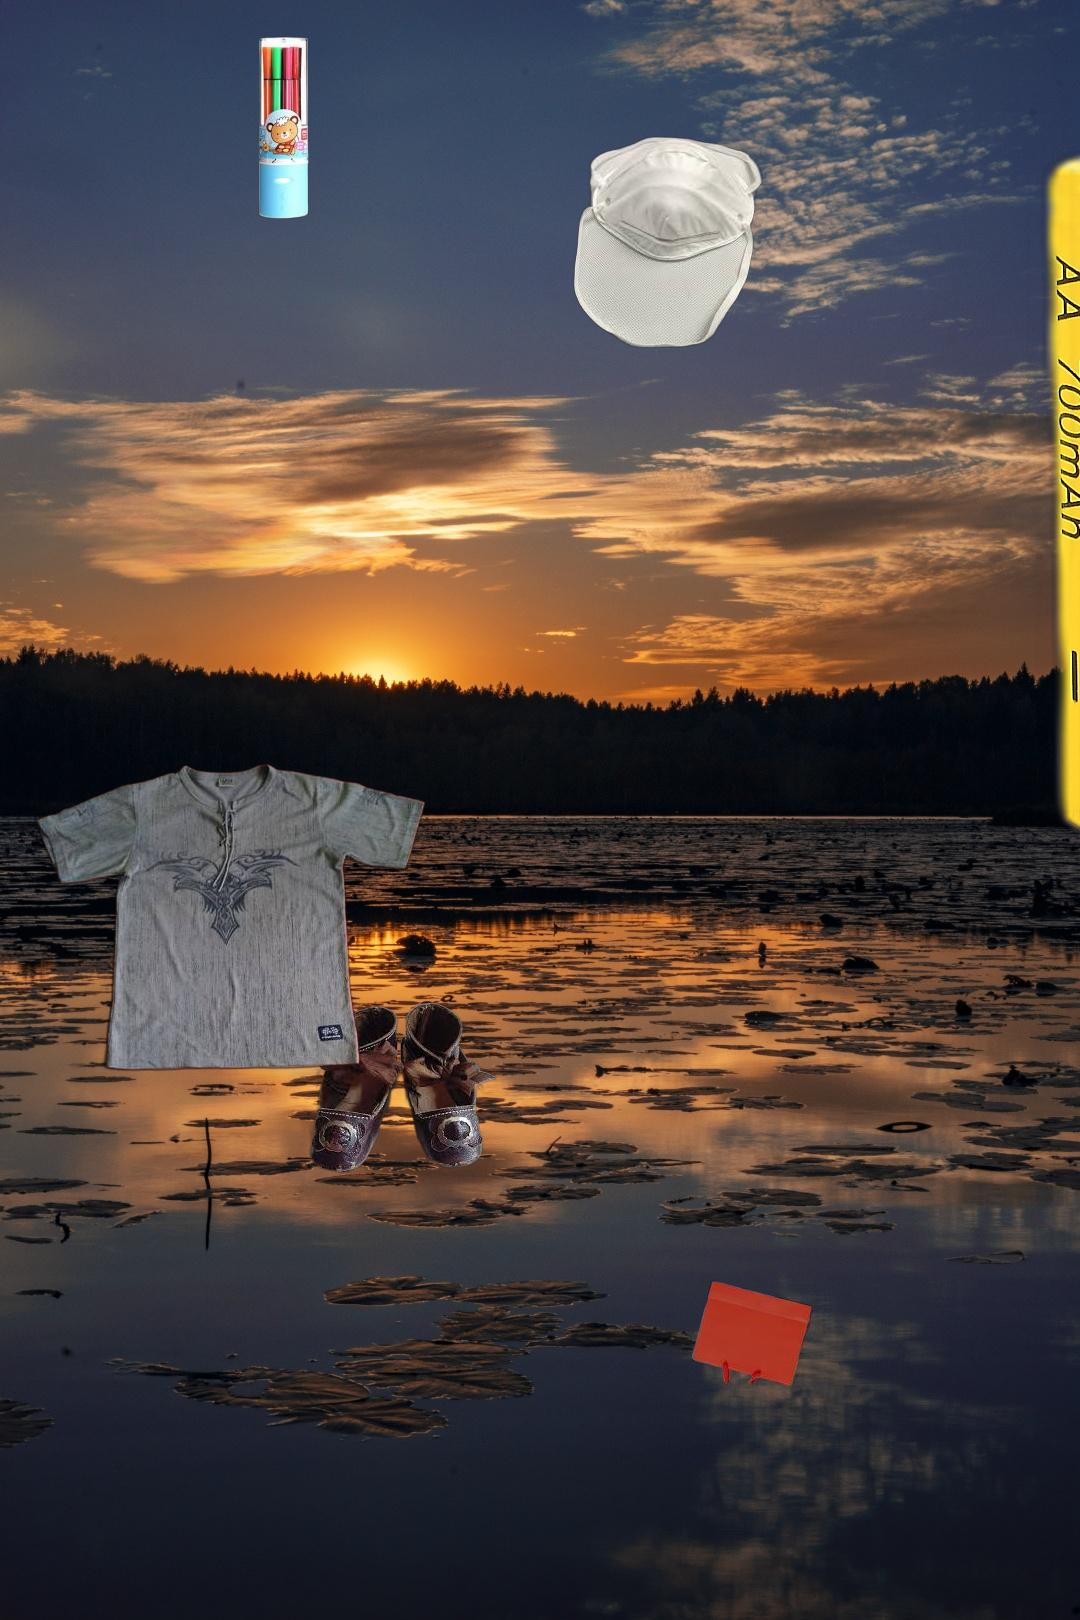battery: (1019, 122, 1080, 918), (747, 1618, 816, 1620)
clothes: (30, 761, 429, 1073)
paper-bag: (689, 1278, 816, 1389)
penholder: (256, 34, 312, 222)
shoes: (307, 1000, 500, 1176)
trash: (571, 134, 765, 351)
